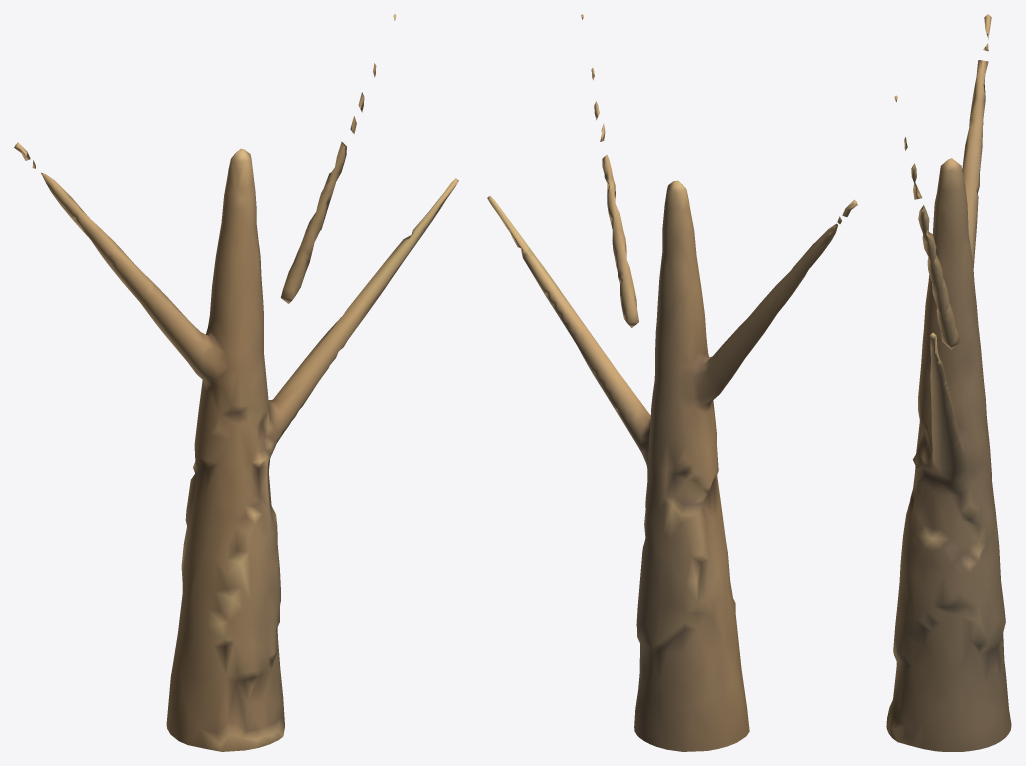
Rendered from env_p_deadtree.glb.
The picture shows the model from 3 angles, left to right: view 1: azimuth 30°, elevation 25°; view 2: azimuth 150°, elevation 25°; view 3: azimuth 270°, elevation 25°; orthographic projection. The views are drawn at different scales.
Parts seen in each view (by area): view 1: geometry_0; view 2: geometry_0; view 3: geometry_0.
Part boxes in pixels (left/top/right/bottom): geometry_0: left=14, top=14, right=458, bottom=751; geometry_0: left=487, top=14, right=857, bottom=751; geometry_0: left=886, top=14, right=1011, bottom=751.
Bounding box in the file's own units: 2.64 × 4.22 × 0.6809.
